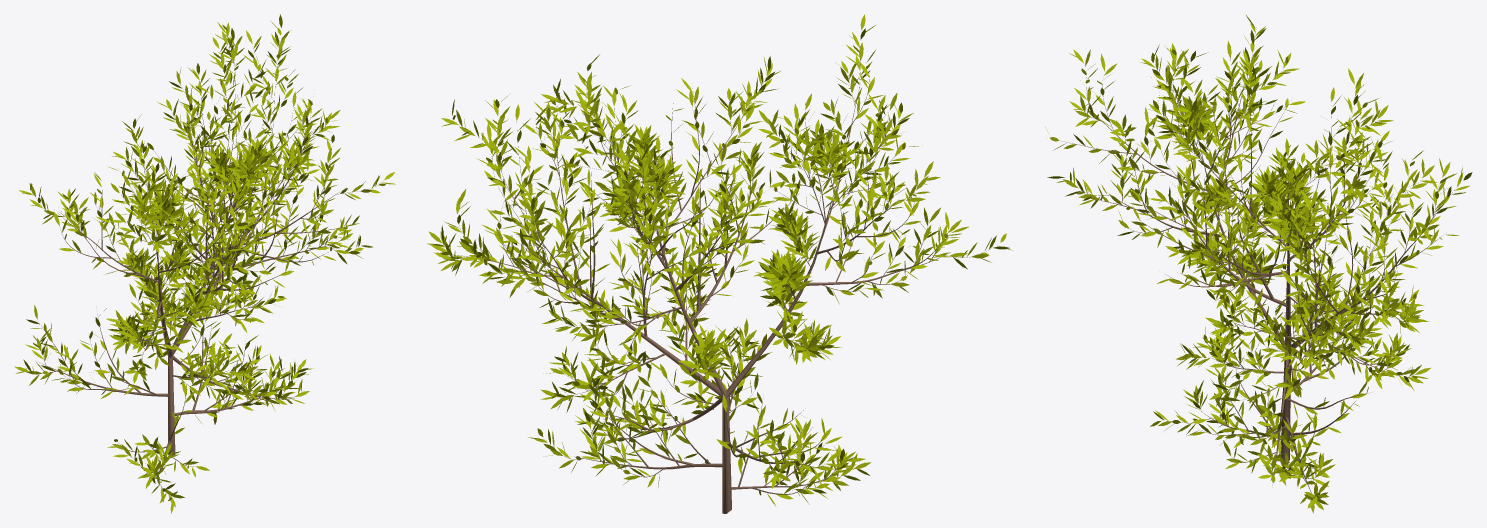
Rendered from arbusto.glb.
3 renders of one model, left to right at view 1: azimuth 30°, elevation 25°; view 2: azimuth 150°, elevation 25°; view 3: azimuth 270°, elevation 25°, orthographic. The views are drawn at different scales.
Parts seen in each view (by area): view 1: bush; view 2: bush; view 3: bush.
Part boxes in pixels (x1=…): bush: x1=14, y1=14, x2=395, y2=513; bush: x1=427, y1=14, x2=1012, y2=513; bush: x1=1045, y1=15, x2=1472, y2=513.
Size of the model in its own units: 3.21 by 3.3 by 2.94.
